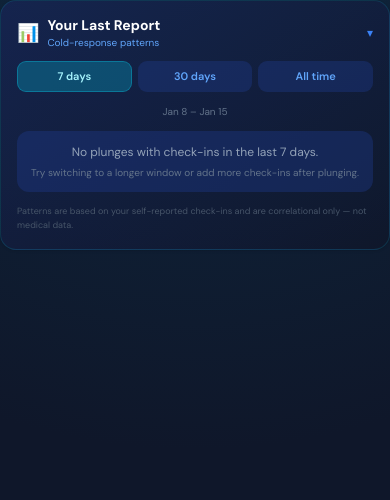
Scenario: DiscoveryReportCard — 30-day tab with sessions spanning two calendar months › 30-day tab shows the full sweet-spot card for sessions spanning December and January
Click the button "30 days": (195,76) left=138, top=61, right=252, bottom=92
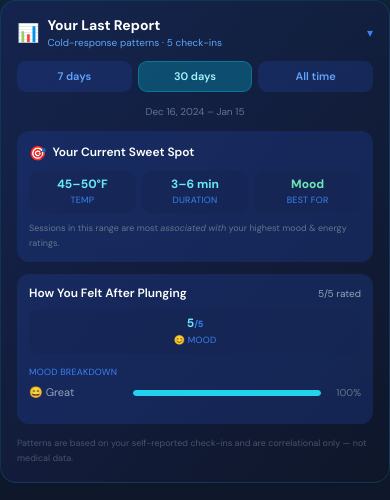
Expected: the text "Your Current Sweet Spot" is shown, left=52, top=145, right=194, bottom=160
